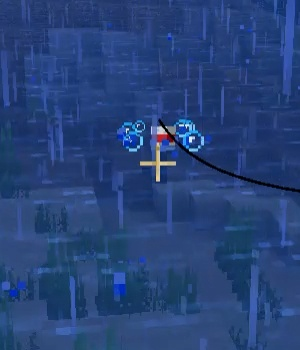up: (148, 116, 180, 186)
